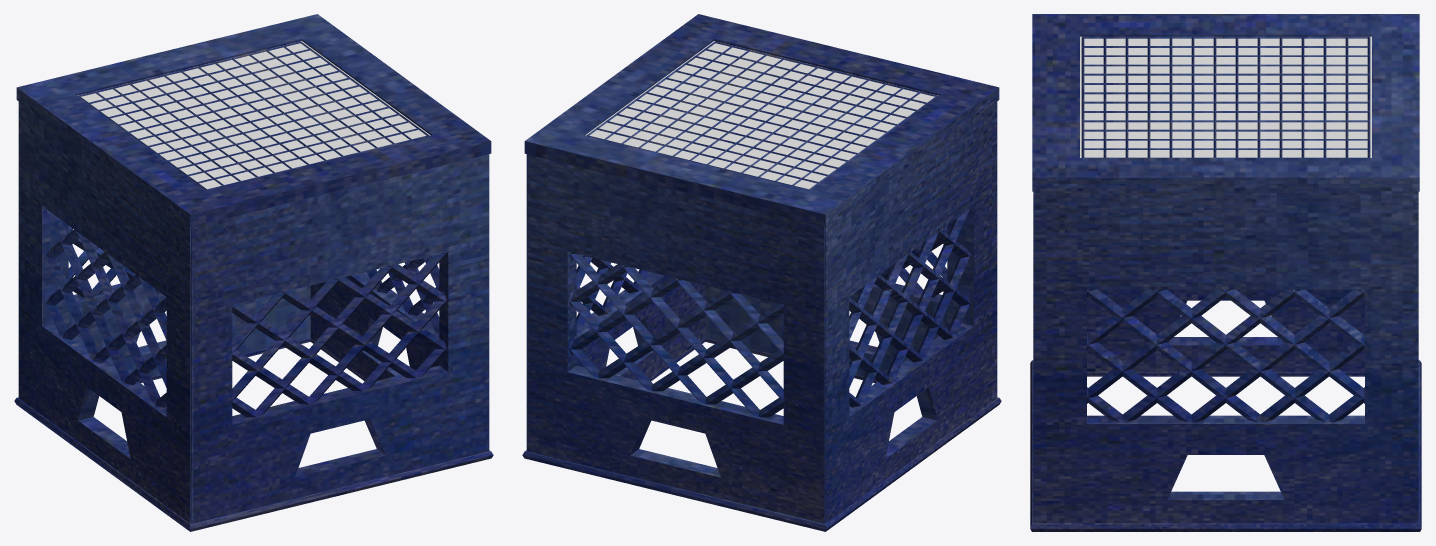
File: milkCrateFinal.fbx
3 renders of one model, left to right at view 1: azimuth 30°, elevation 25°; view 2: azimuth 150°, elevation 25°; view 3: azimuth 270°, elevation 25°, orthographic. The views are drawn at different scales.
Parts seen in each view (by area): view 1: fRAME, InvisPlatform; view 2: fRAME, InvisPlatform; view 3: fRAME, InvisPlatform.
Boxes of the visible parts, left/top/right/bottom form: fRAME: left=14, top=14, right=493, bottom=531; InvisPlatform: left=77, top=41, right=430, bottom=189; fRAME: left=522, top=14, right=1001, bottom=531; InvisPlatform: left=585, top=41, right=938, bottom=189; fRAME: left=1030, top=14, right=1421, bottom=531; InvisPlatform: left=1080, top=36, right=1371, bottom=157.
Bounding box in the file's own units: 487 × 488 × 487.
Materials: 2 (1 with a texture image).
